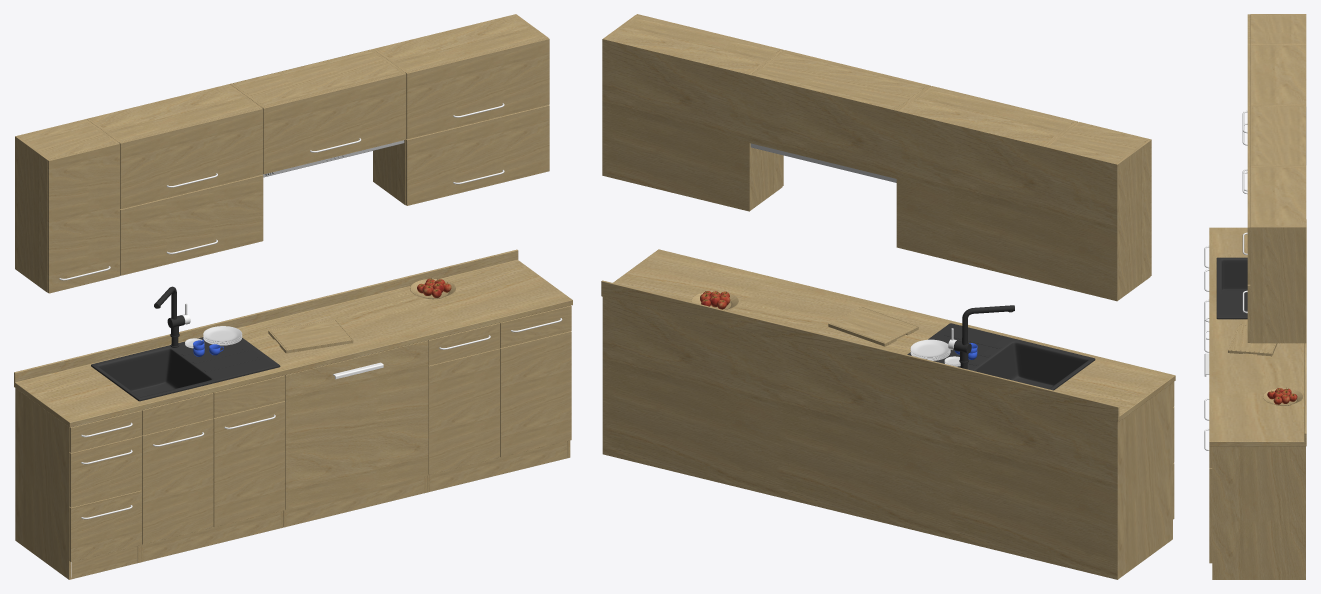
The picture shows the model from 3 angles, left to right: view 1: azimuth 30°, elevation 25°; view 2: azimuth 150°, elevation 25°; view 3: azimuth 270°, elevation 25°; orthographic projection. The views are drawn at different scales.
Parts seen in each view (by area): view 1: tabletop.001, large drawer.013, cabinet doors_upper.006, cabinet doors_upper.010, cabinet doors_upper.008, cabinet doors_upper.011, cabinet doors_upper.009, cabinet doors_upper.007, cabinet frame.017, large drawer.010, large drawer.011, large drawer.012 (+18 smaller); view 2: backside.002, backside.003, tabletop.001, cabinet frame.017, sink one hole.001, cabinet frame_upper.015, cabinet frame_upper.026, cabinet frame_upper.025, cabinet frame_upper.023, cabinet frame_upper.014, cutting board, cabinet frame_upper.021; view 3: cabinet frame.020, tabletop.001, cabinet frame_upper.022, cabinet frame_upper.025, cabinet frame_upper.026, cabinet frame_upper.023, sink one hole.001, cabinet frame_upper.014, cutting board, cabinet doors_upper.010, large drawer.012, wooden bowl (+5 smaller).
Part boxes in pixels (box(x1,y1,x2,y2)): tabletop.001: box(14, 249, 572, 427); large drawer.013: box(285, 340, 428, 509); cabinet doors_upper.006: box(47, 142, 119, 293); cabinet doors_upper.010: box(405, 38, 549, 139); cabinet doors_upper.008: box(119, 107, 263, 209); cabinet doors_upper.011: box(262, 72, 406, 174); cabinet doors_upper.009: box(405, 105, 549, 205); cabinet doors_upper.007: box(120, 175, 263, 275); cabinet frame.017: box(15, 388, 140, 579); large drawer.010: box(213, 401, 285, 527); large drawer.011: box(428, 348, 499, 474); large drawer.012: box(500, 331, 571, 457); backside.002: box(602, 297, 1117, 579); backside.003: box(602, 39, 1117, 301); tabletop.001: box(601, 249, 1175, 422); cabinet frame.017: box(1117, 382, 1172, 579); sink one hole.001: box(907, 323, 1095, 390); cabinet frame_upper.015: box(1115, 140, 1150, 300); cabinet frame_upper.026: box(605, 15, 778, 74); cabinet frame_upper.025: box(900, 87, 1073, 145); cabinet frame_upper.023: box(753, 51, 926, 109); cabinet frame_upper.014: box(1047, 123, 1146, 163); cutting board: box(828, 306, 918, 346); cabinet frame_upper.021: box(747, 50, 782, 210); cabinet frame.020: box(1212, 446, 1305, 579); tabletop.001: box(1209, 219, 1306, 446); cabinet frame_upper.022: box(1250, 226, 1306, 343); cabinet frame_upper.025: box(1250, 45, 1306, 104); cabinet frame_upper.026: box(1250, 167, 1306, 226); cabinet frame_upper.023: box(1250, 106, 1305, 165); sink one hole.001: box(1216, 257, 1247, 319); cabinet frame_upper.014: box(1250, 15, 1306, 43); cutting board: box(1228, 324, 1277, 356); cabinet doors_upper.010: box(1247, 166, 1250, 284); large drawer.012: box(1209, 468, 1212, 563); wooden bowl: box(1263, 388, 1303, 405).
Size of the model in its own units: 2.81 by 2.16 by 0.5667.
18 materials, 7 textured.
